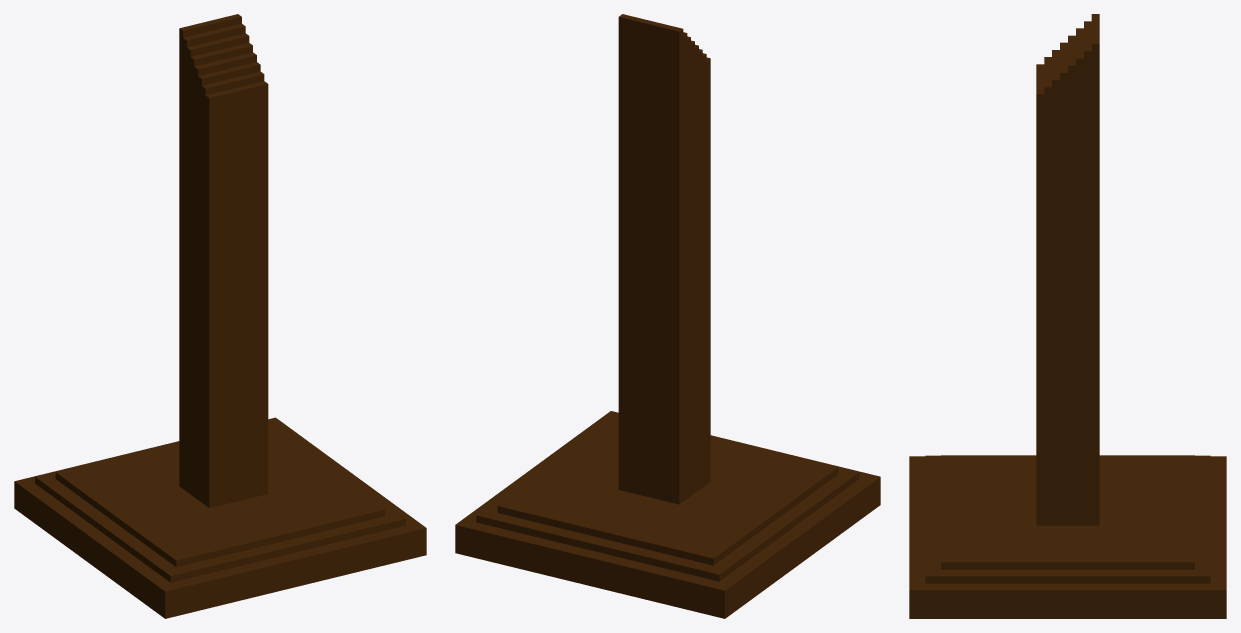
Rendered from plinth.obj.
3 renders of one model, left to right at view 1: azimuth 30°, elevation 25°; view 2: azimuth 150°, elevation 25°; view 3: azimuth 270°, elevation 25°, orthographic. The views are drawn at different scales.
Bounding box in the file's own units: 40 × 73 × 40.
1 material, 1 textured.
